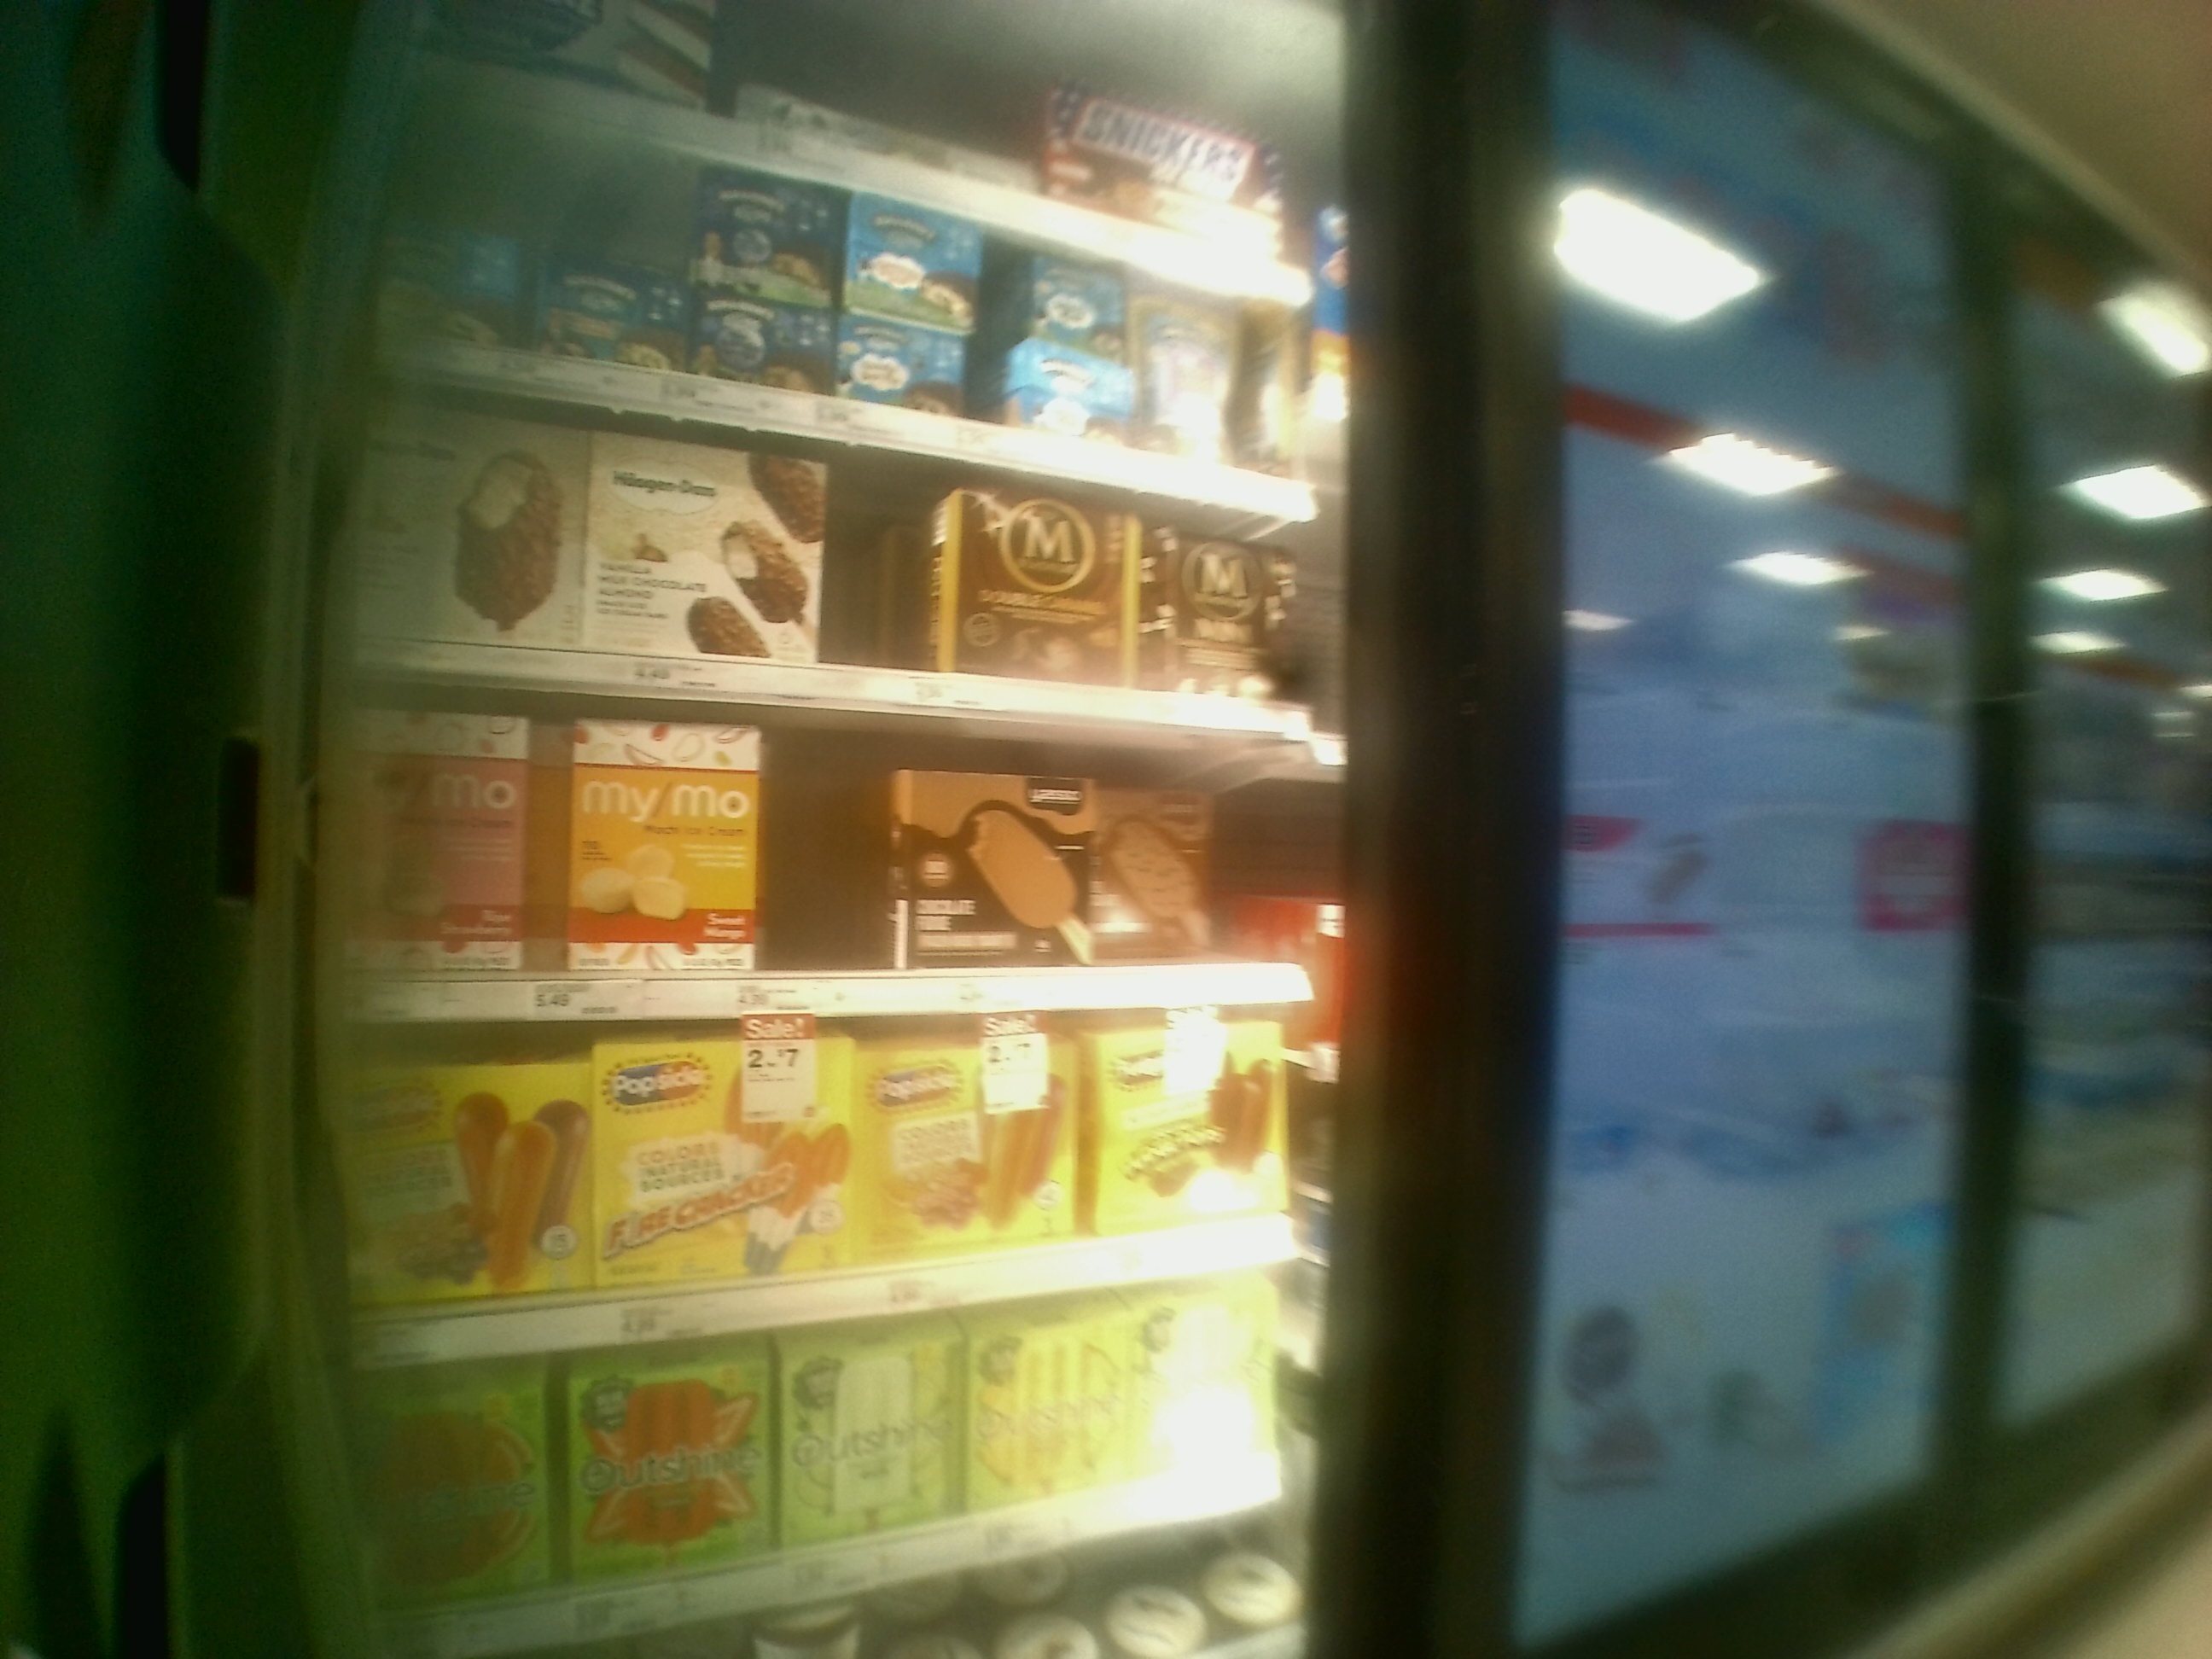shelf: (369, 364, 1338, 737), (374, 1014, 1305, 1371), (371, 687, 1320, 1014)
